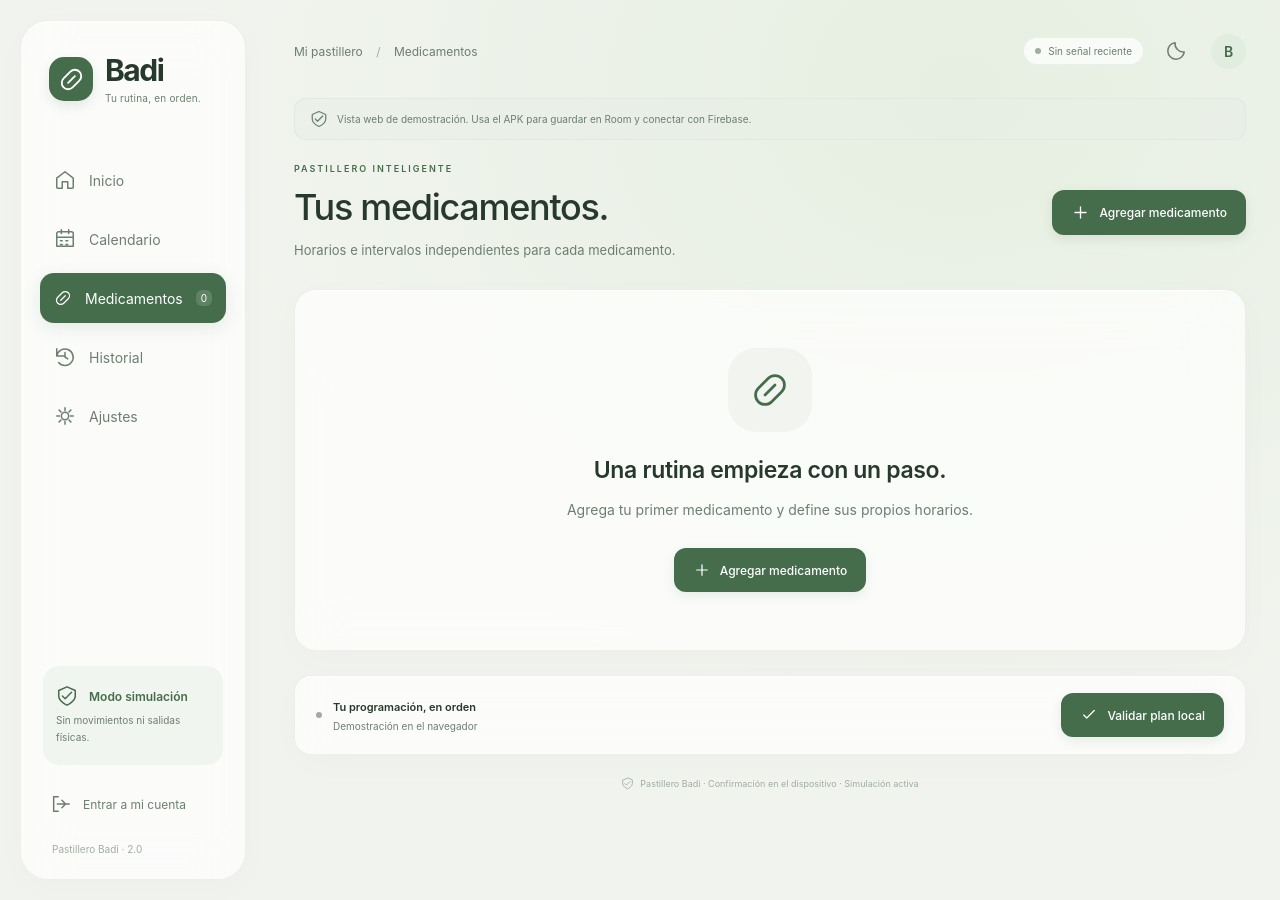
it: conserva un intervalo propio de la pauta
The image size is (1280, 900).
Expected: the heading "Tus medicamentos." is shown, left=294, top=185, right=608, bottom=229
Click the button "Agregar medicamento" in the row of "Tus medicamentos.".
click(1149, 212)  # box left=1052, top=190, right=1246, bottom=235
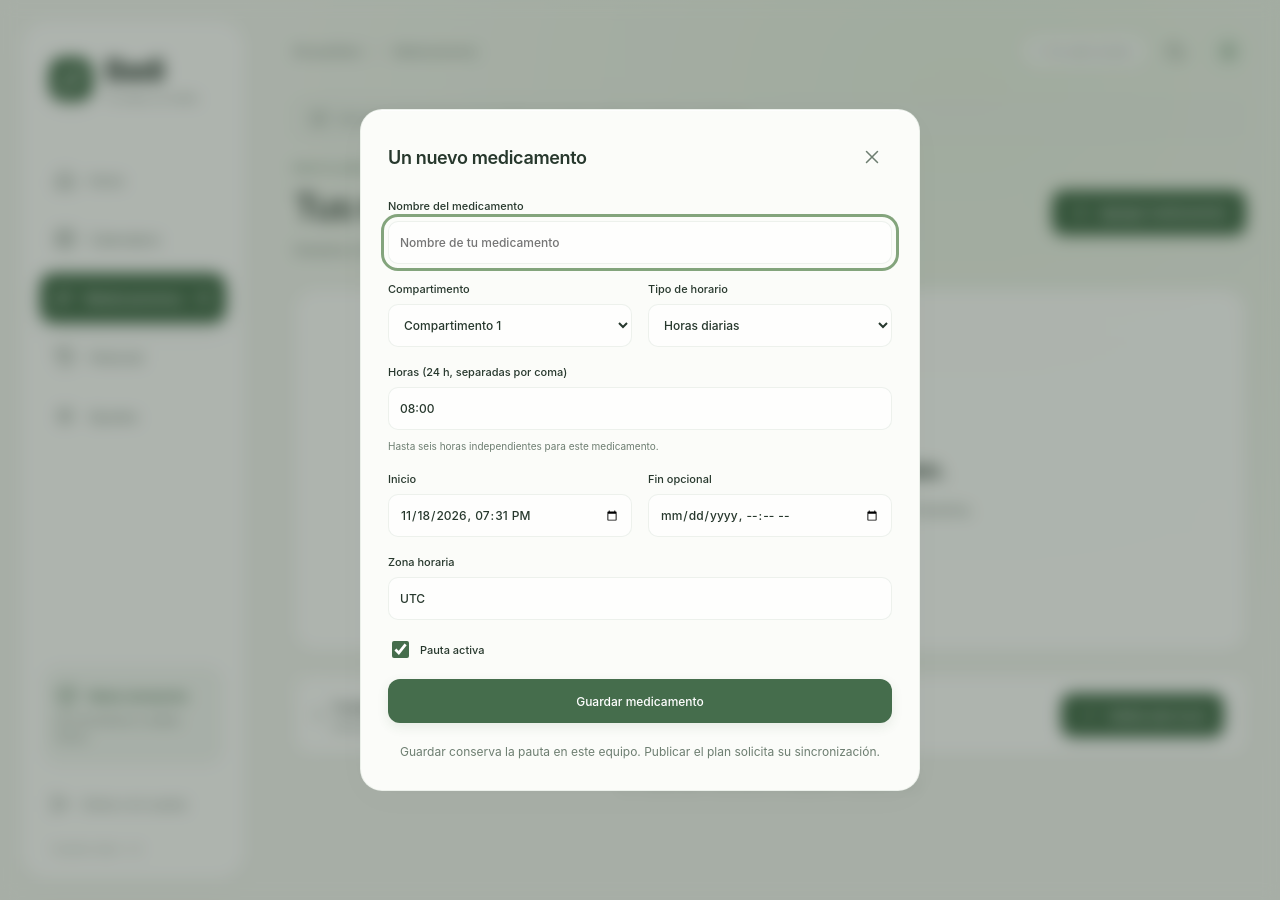
Type "Intervalo QA" into the field labelled "Nombre del medicamento".
click(640, 243); type("Intervalo QA")  # box left=388, top=221, right=892, bottom=264
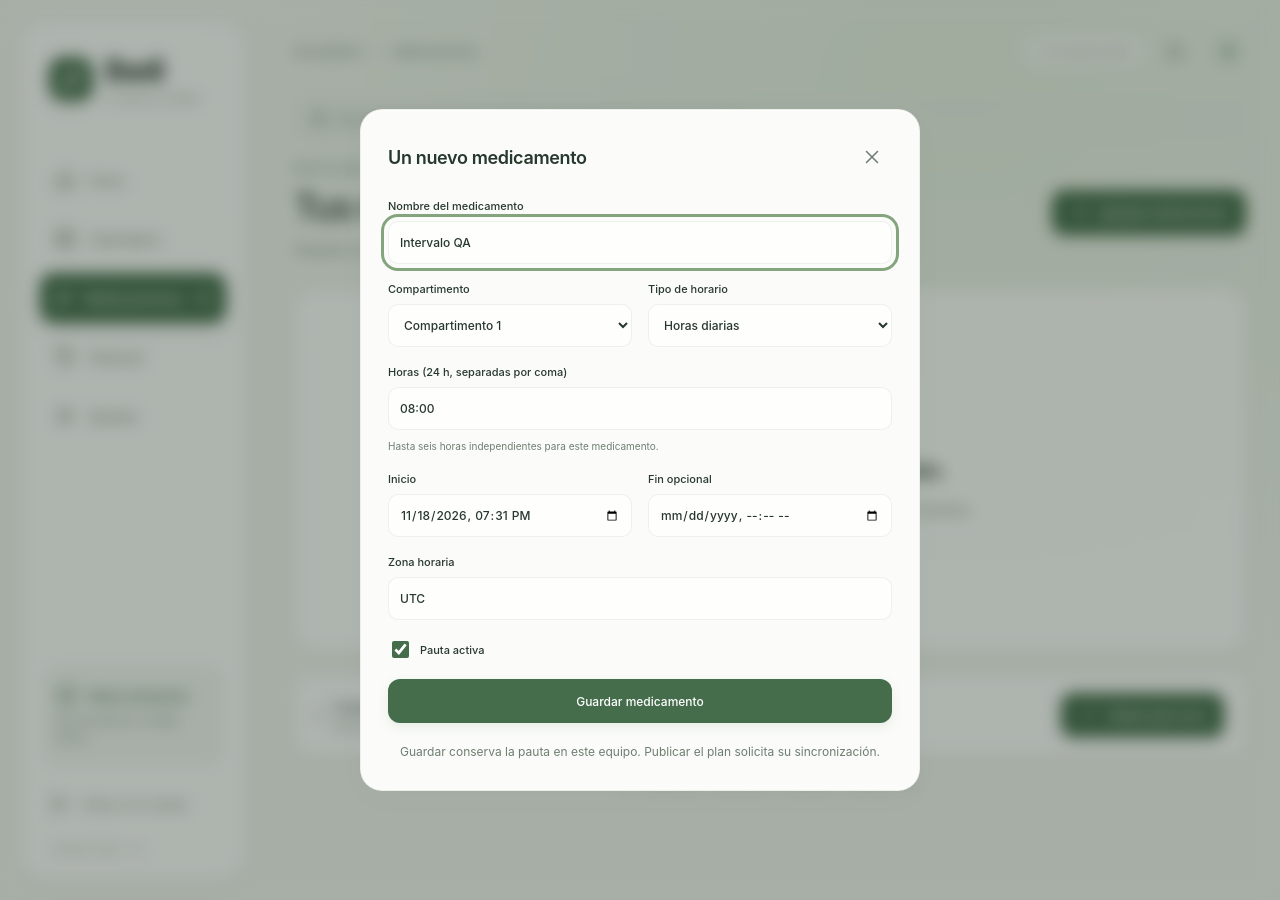
Select "Cada cierto intervalo" in the dropdown labelled "Tipo de horario" at point(770, 326), box left=648, top=304, right=892, bottom=347
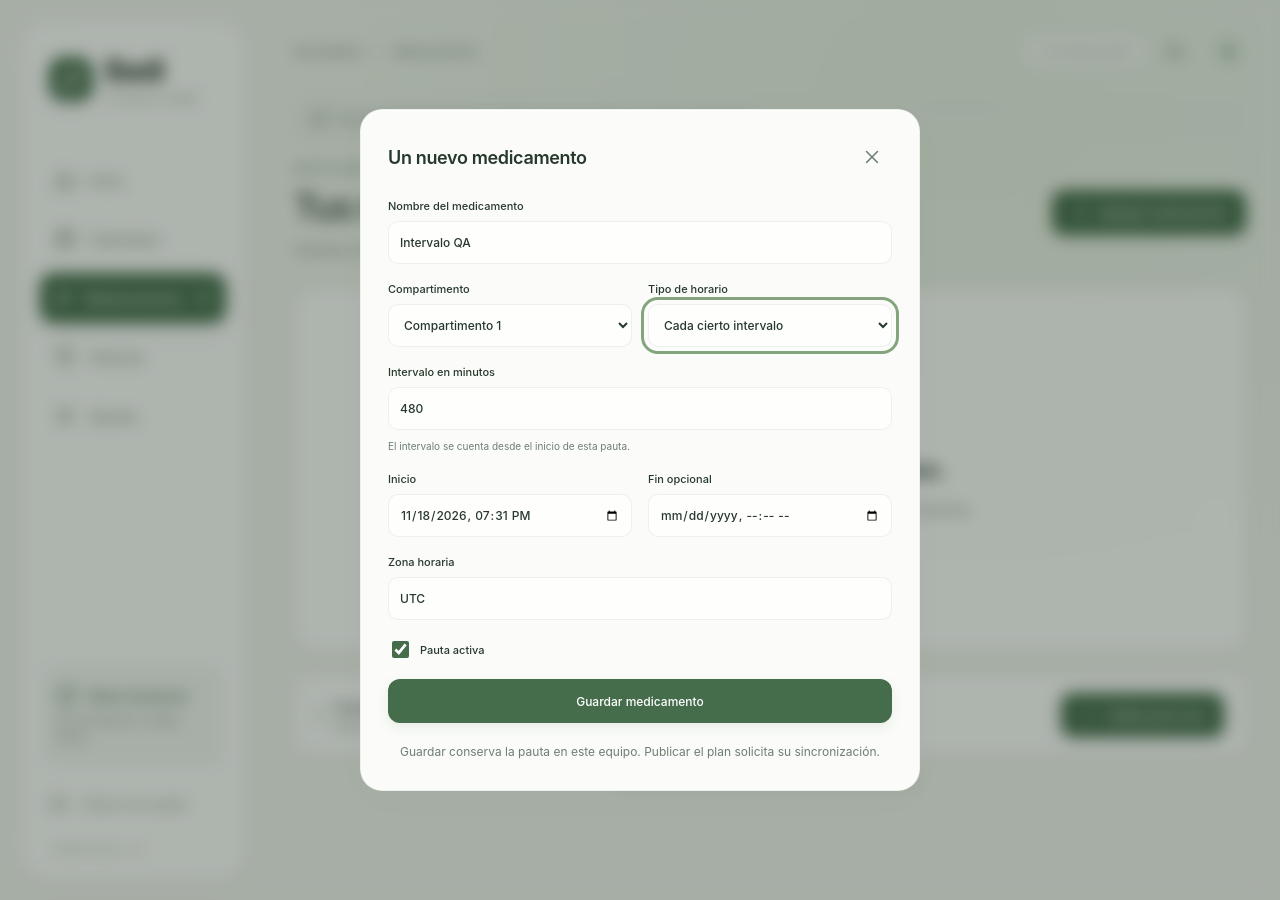
Replace the text in the number field labelled "Intervalo en minutos" with "360" at point(640, 409), box left=388, top=387, right=892, bottom=430
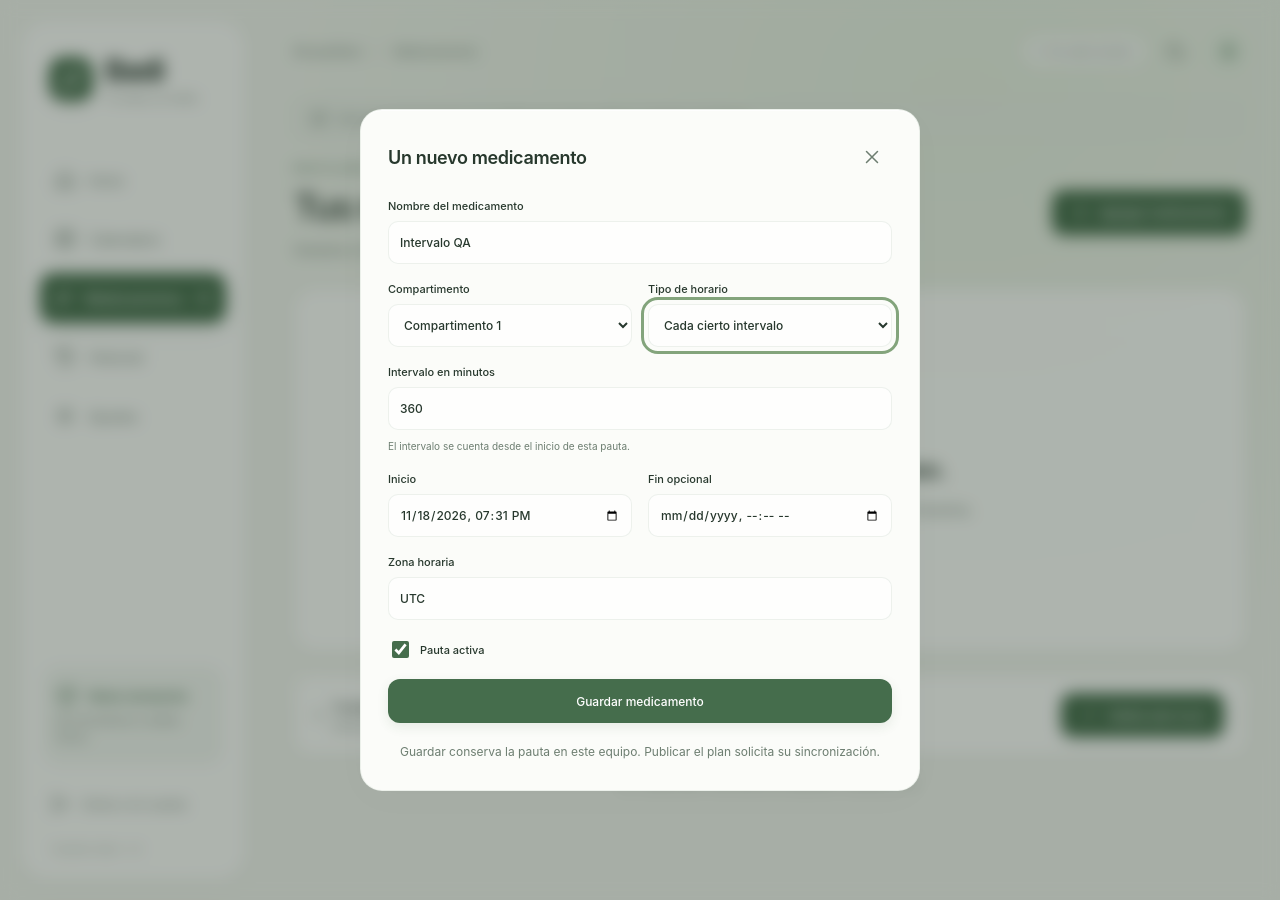
Click the button "Guardar medicamento".
click(640, 701)  # box left=388, top=679, right=892, bottom=723
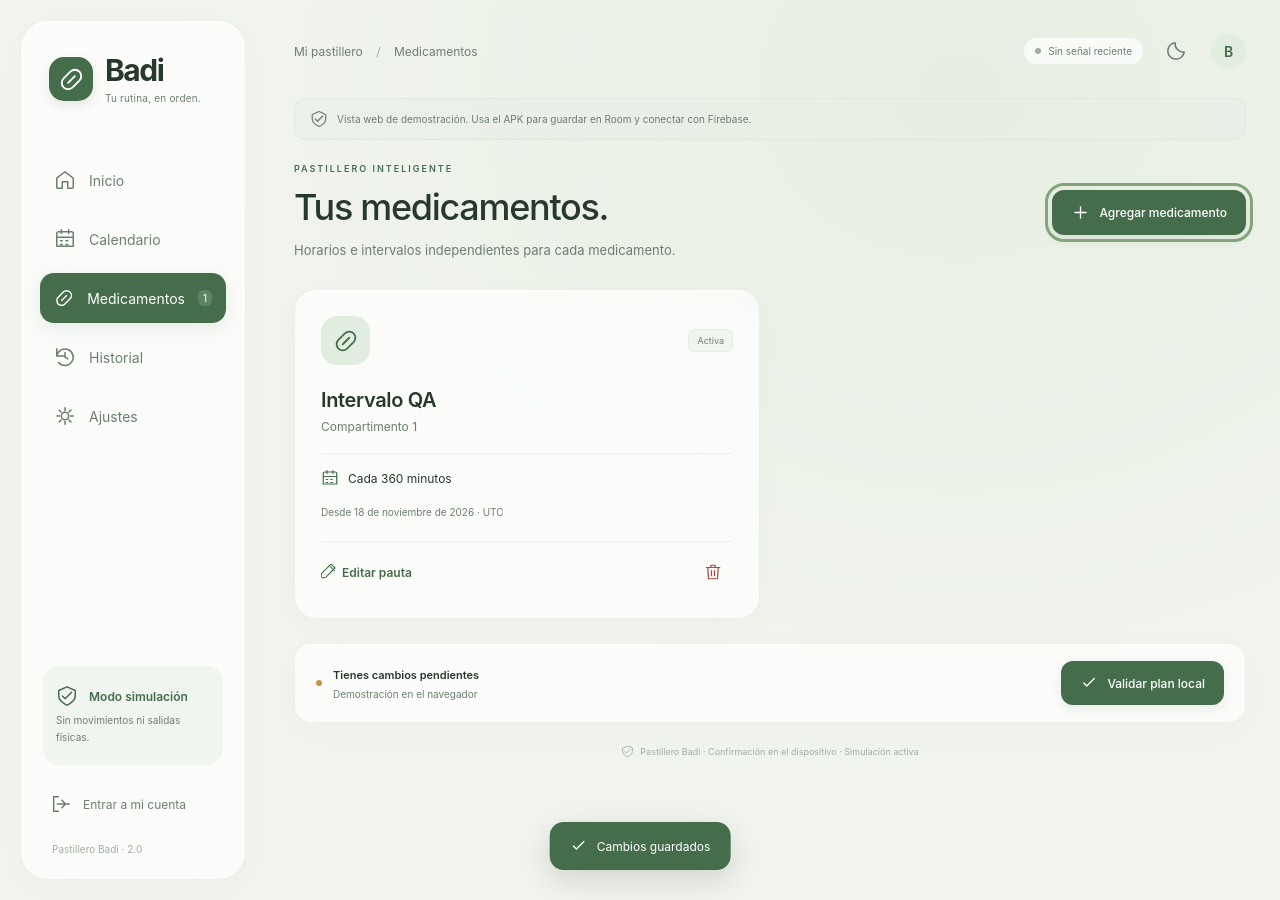
Now the text "Cada 360 minutos" is shown, box left=348, top=471, right=452, bottom=486
